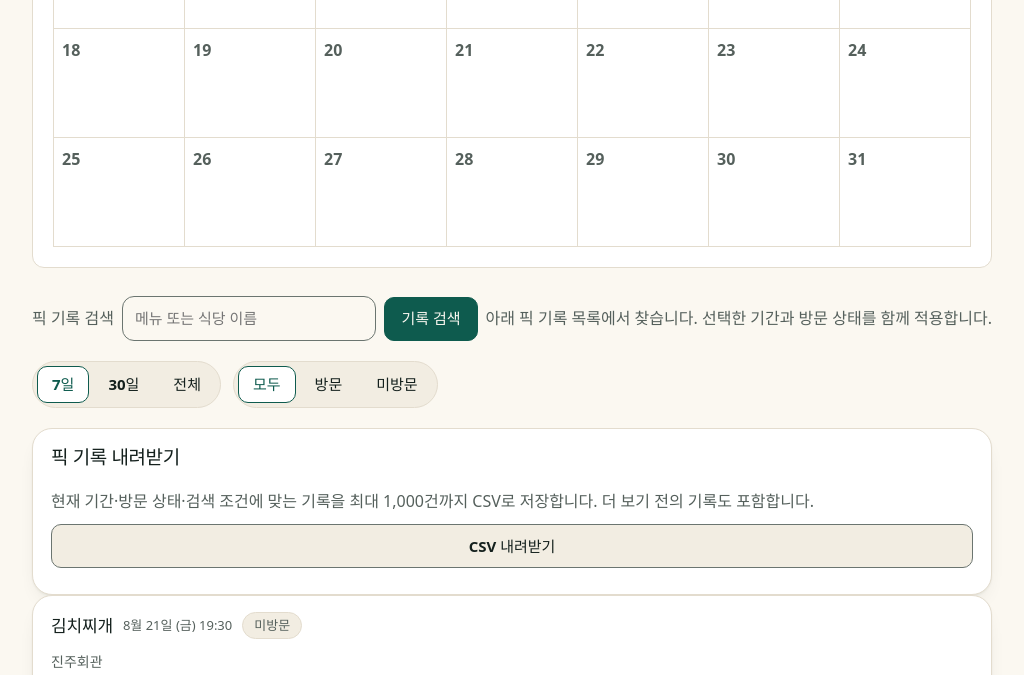
Scenario: 픽 기록 이름 검색 › 제출할 때 공백을 제거하고 기간과 방문 상태를 함께 보낸다
(page scrolled)
Expected: the text "김치찌개" is shown, [51,612,113,640]
Click the button "30일" at {"x": 124, "y": 384}, box [93,366,154,403]
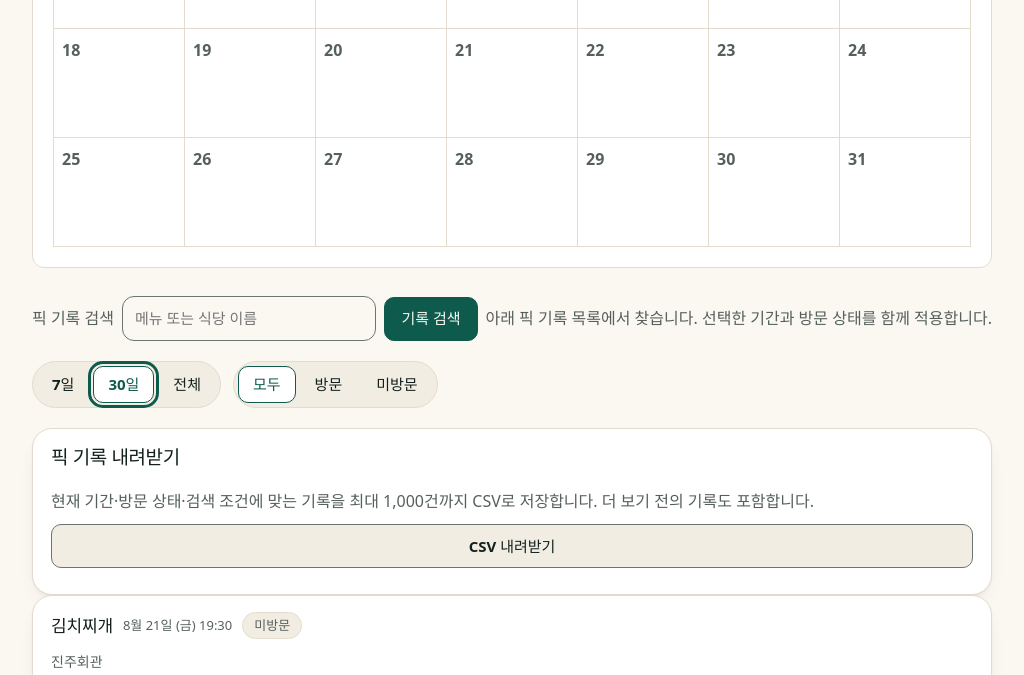
Click the button "미방문" at {"x": 397, "y": 384}, box [361,366,433,403]
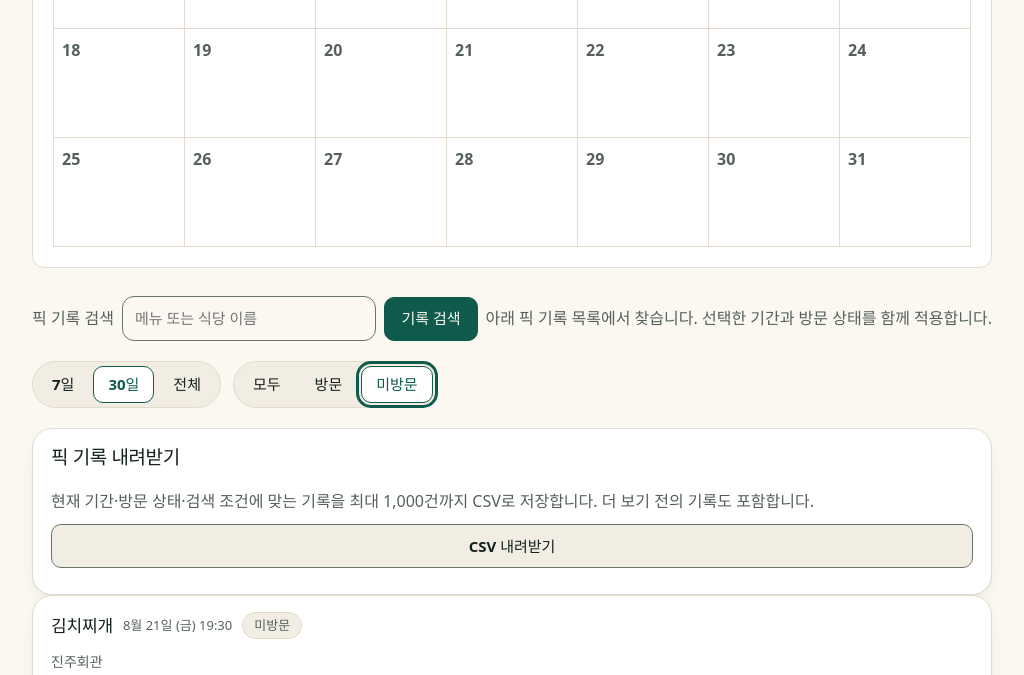
Type "  진주  " into the search field labelled "픽 기록 검색" at {"x": 249, "y": 319}, box [122,296,376,341]
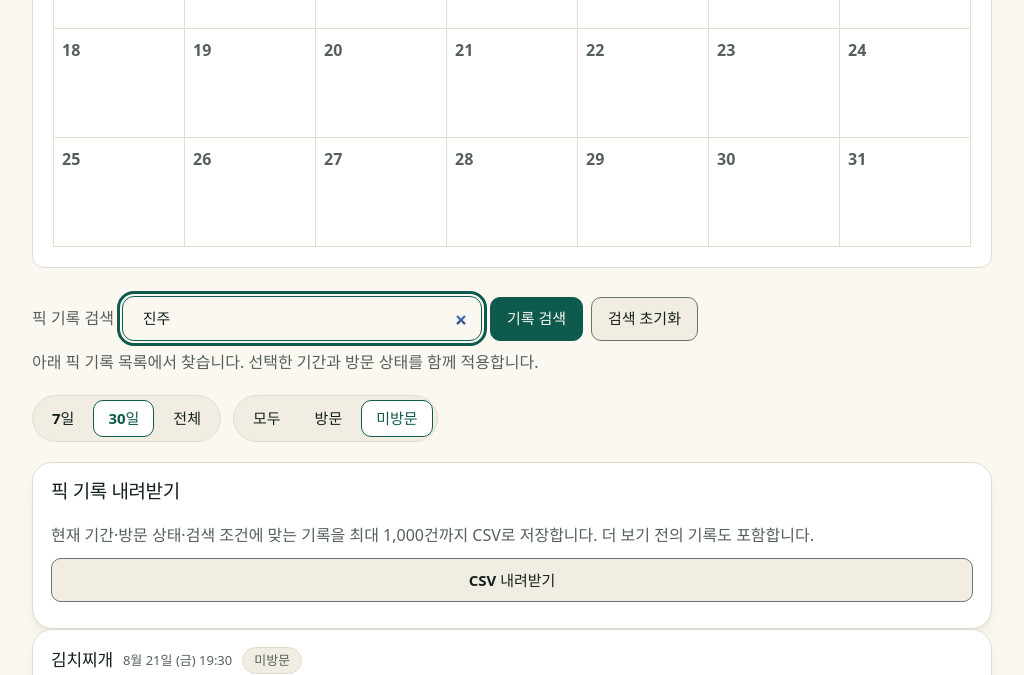
Click the button "기록 검색" at {"x": 536, "y": 319}, box [490,297,583,341]
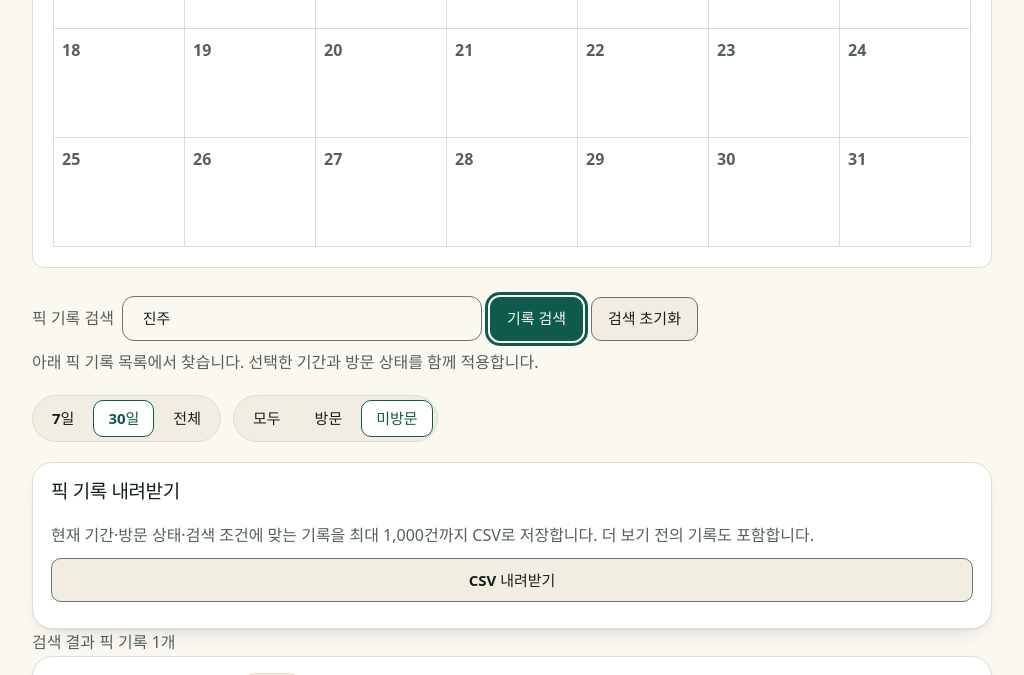
Click the button "검색 초기화" at {"x": 644, "y": 319}, box [591,297,698,341]
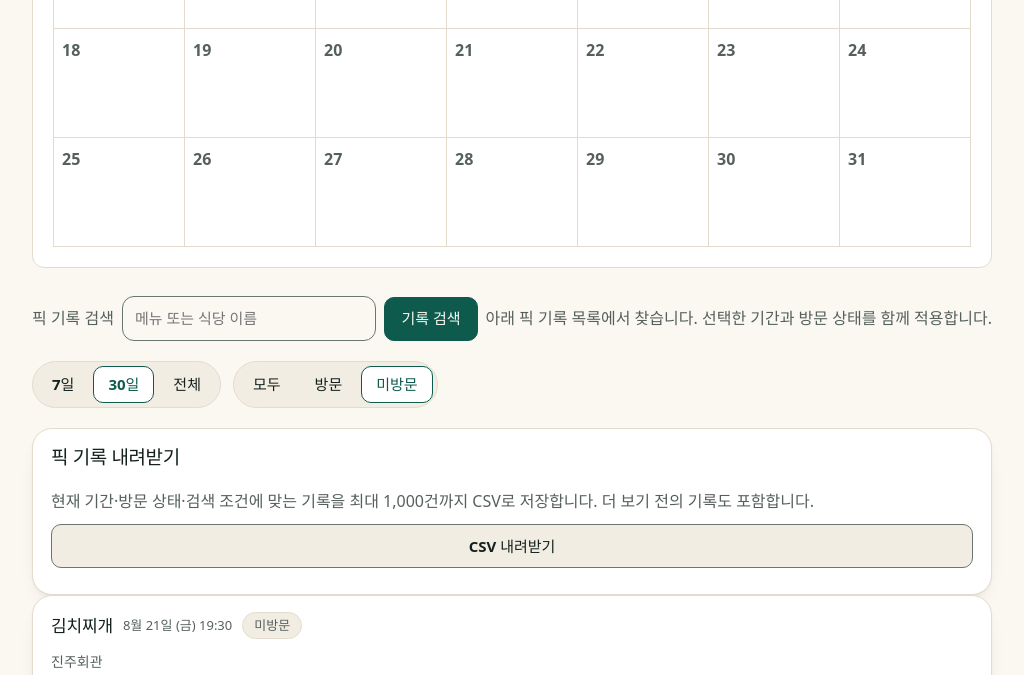
Result: the search field is empty at [122,296,376,341]
